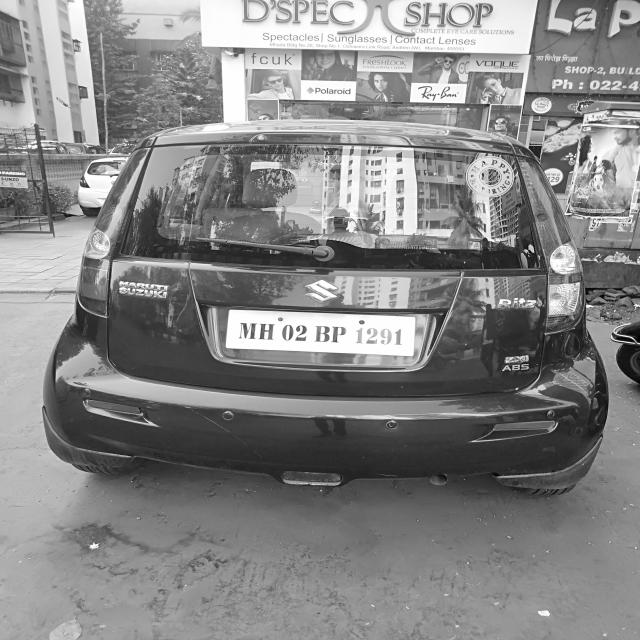car: (37, 114, 613, 498)
license-plate: (226, 308, 417, 354)
